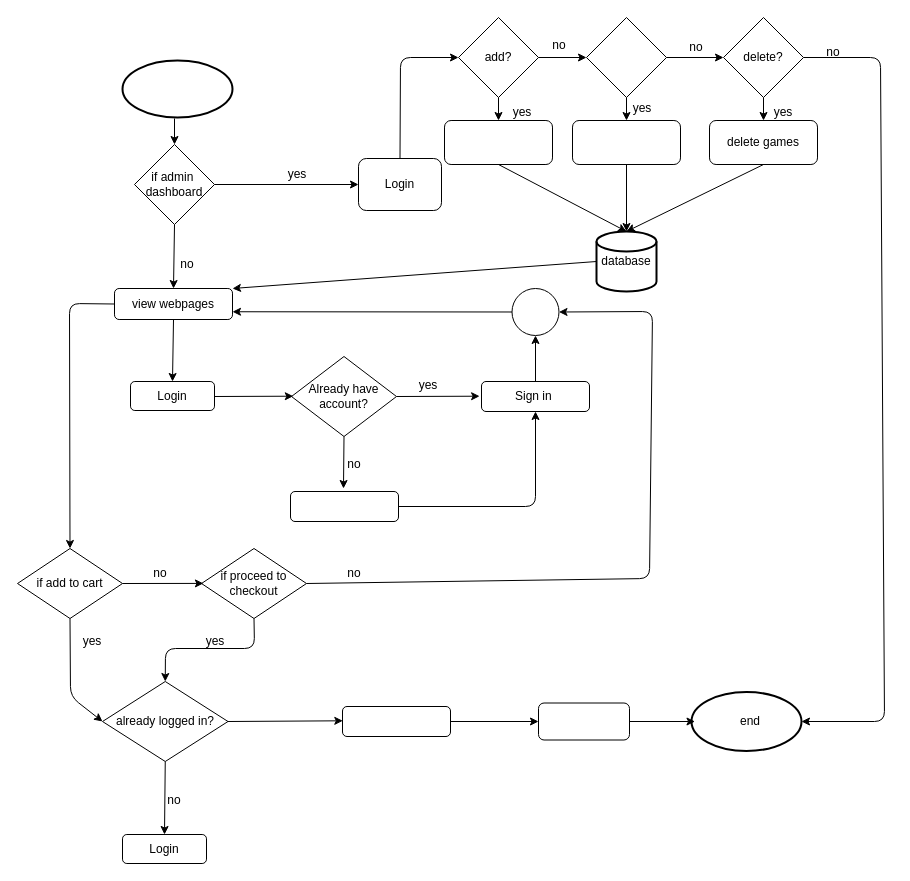
The diagram is 910 pixels wide and 881 high, and some of its shapes have lost their labels. The shapes that lost their labels are listed below. From the top down, each one's centre as x and y in pixels, then its label:
point (626, 57): update?
point (177, 88): start
point (498, 142): add games
point (626, 142): update games
point (344, 506): Signup
point (396, 721): add to cart/ checkout
point (584, 721): show message
